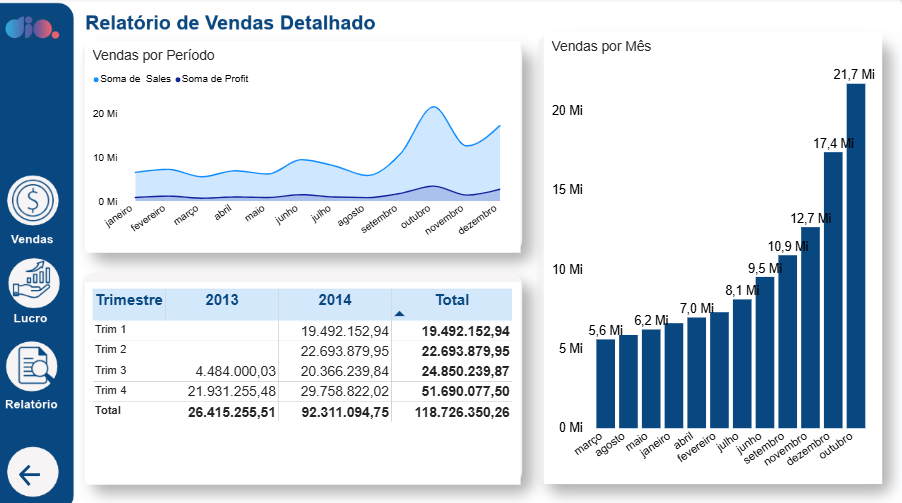

Layout of this report page (visuals, bound fields, positions):
{"tool":"powerbi","page":{"name":"Página 3","canvas":[1920,1080],"ordinal":2},"visuals":[{"type":"image","box":[0,0,1920,1081],"z":0},{"type":"actionButton","box":[0,950.9,137.1,129.1],"z":1000},{"type":"actionButton","box":[0,540.5,156,126.4],"z":2000},{"type":"actionButton","box":[0,715.3,137.1,129.1],"z":3000},{"type":"areaChart","title":"Vendas por Período","fields":{"Category":["financials.Date.Variation.Hierarquia de datas.Mês"],"Y":["Sum(financials. Sales)","Sum(financials.Profit)"]},"box":[185.8,91.6,926.3,449.7],"z":4000},{"type":"pivotTable","fields":{"Columns":["financials.Date.Variation.Hierarquia de datas.Ano"],"Rows":["financials.Trimestre"],"Values":["Sum(financials. Sales)"]},"box":[185.8,603.2,926.3,430.9],"z":5000},{"type":"columnChart","title":"Vendas por Mês","fields":{"Category":["financials.Mês"],"Y":["Sum(financials. Sales)"]},"box":[1160.6,72.7,719,961.3],"z":6000}]}

Visuals, with their boxes on the page's 1920x1080 design canvas (x1, y1, x2, y2). These are canvas units, not pixel positions in the 902x503 screenshot, which may show the page scaled, cropped or inside an application window:
image: bbox(0, 0, 1920, 1081)
actionButton: bbox(0, 951, 137, 1080)
actionButton: bbox(0, 540, 156, 667)
actionButton: bbox(0, 715, 137, 844)
"Vendas por Período" areaChart: bbox(186, 92, 1112, 541)
pivotTable - financials.Date.Variation.Hierarquia de datas.Ano x financials.Trimestre: bbox(186, 603, 1112, 1034)
"Vendas por Mês" columnChart: bbox(1161, 73, 1880, 1034)
